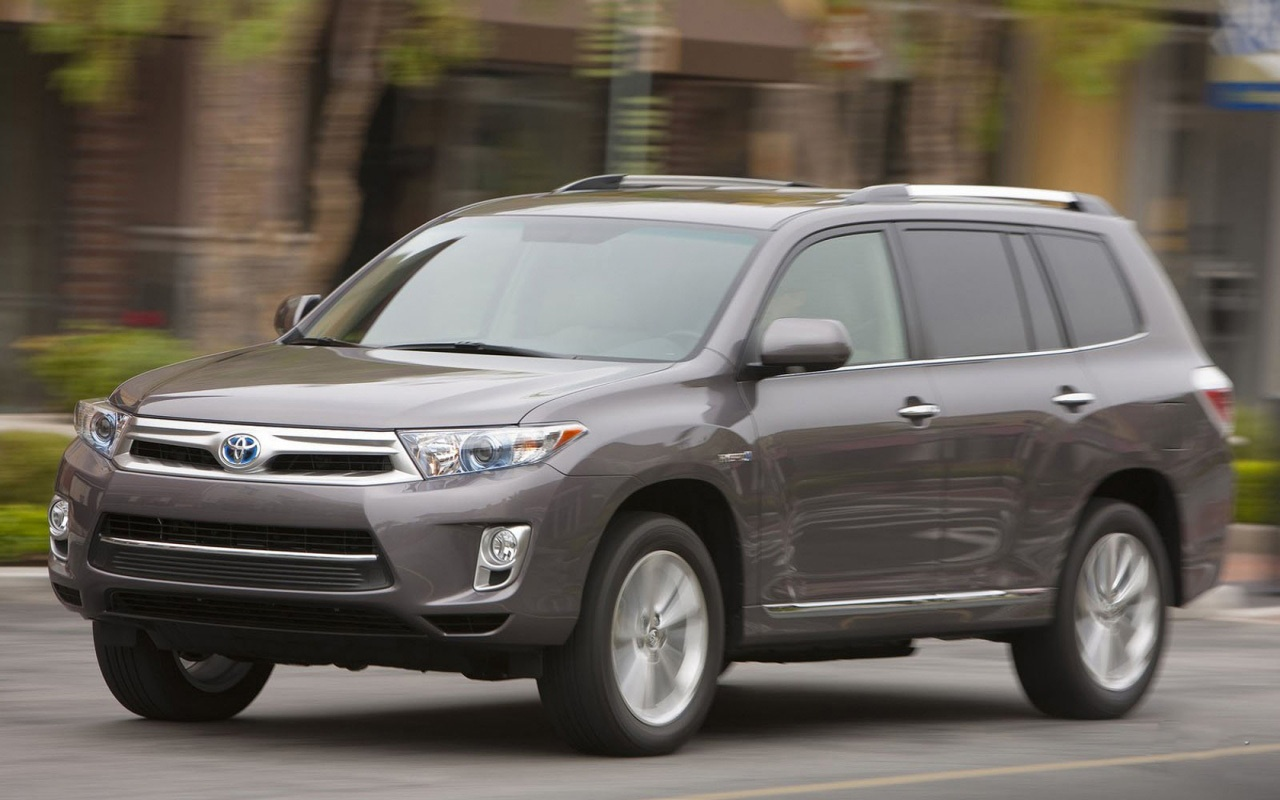SUV: (76, 151, 1218, 712)
